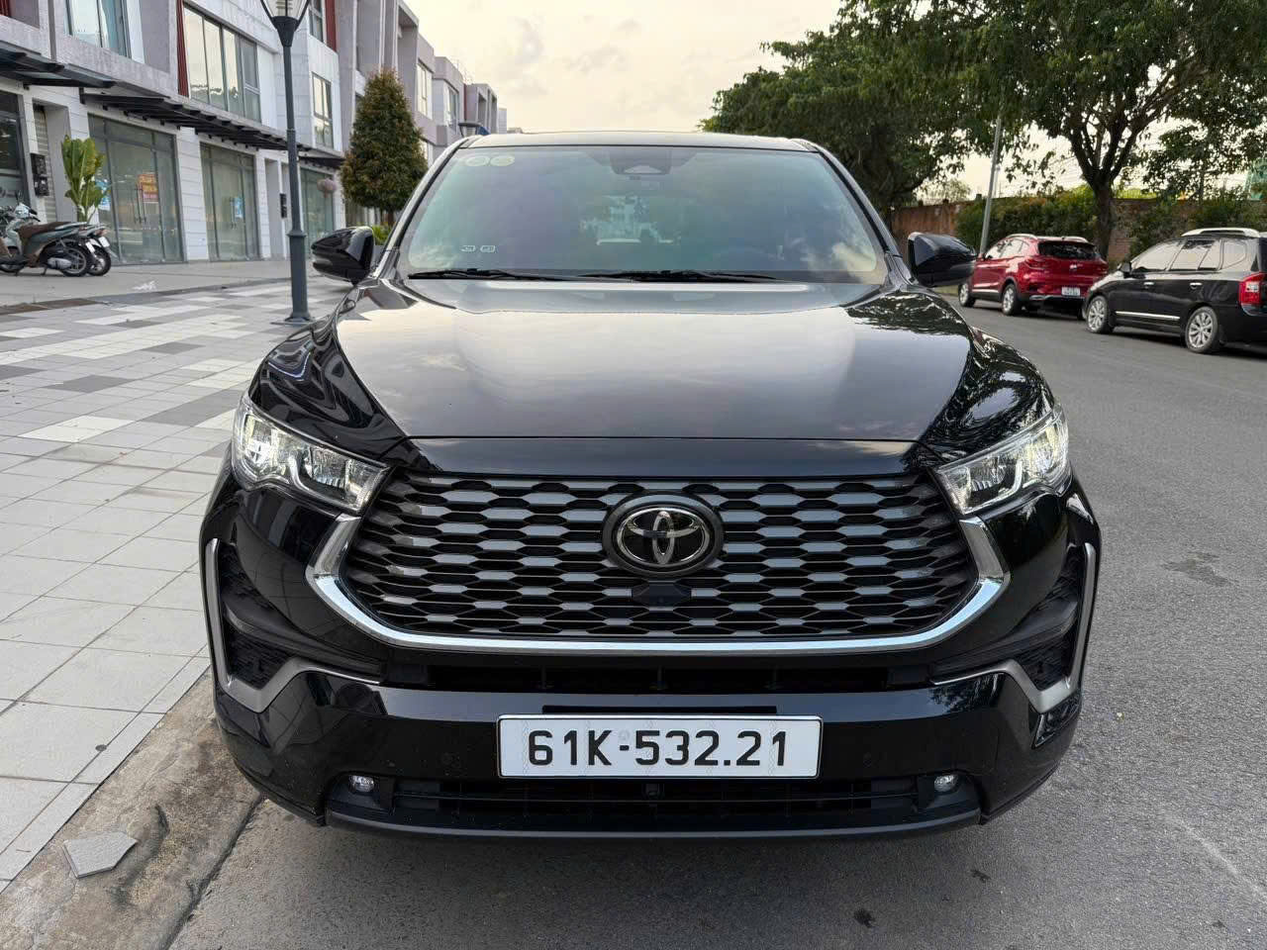Bien-so: (497, 713, 827, 781)
